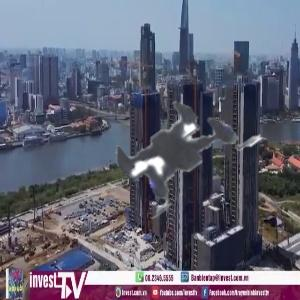drone: (60, 37, 293, 270)
